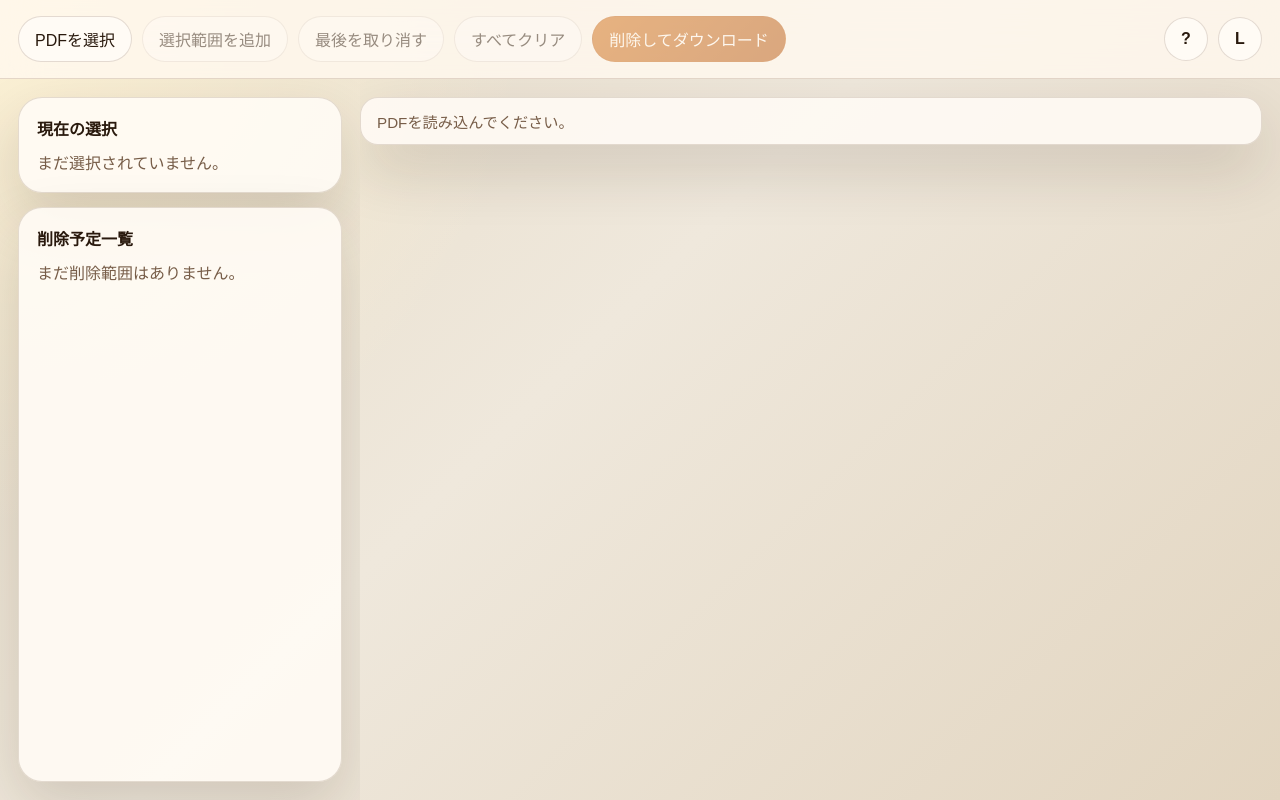
it: App › ヘッダー右の 使い方 ボタンからヘルプモーダルを開ける
The width and height of the screenshot is (1280, 800).
What coordinates should you click on to do the following:
click the button named "使い方"
I would click on:
 (1186, 39)
Its box is top-left (1164, 17), bottom-right (1208, 61).
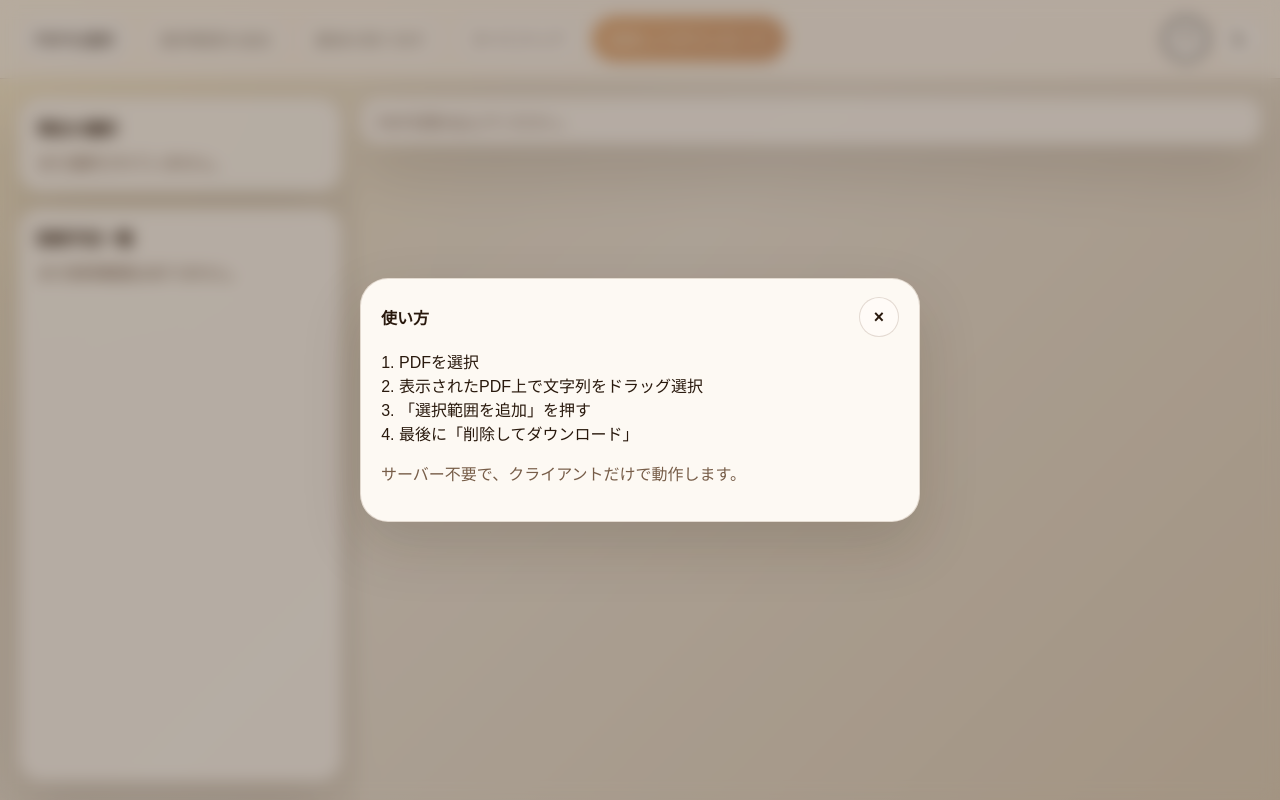
Expected: the dialog "使い方" is shown, top-left (360, 278), bottom-right (920, 522)
Expected: the list item "PDFを選択" is shown, top-left (399, 354), bottom-right (479, 371)
Expected: the list item "表示されたPDF上で文字列をドラッグ選択" is shown, top-left (399, 378), bottom-right (703, 395)
